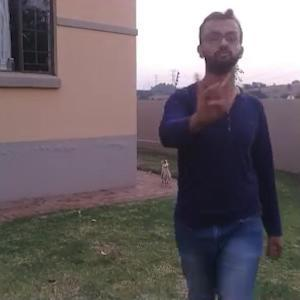takeoff-hand: (190, 64, 240, 129)
